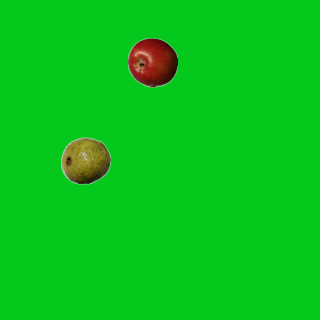Apple Braeburn: (127, 37, 177, 87)
Guava: (60, 135, 110, 185)
